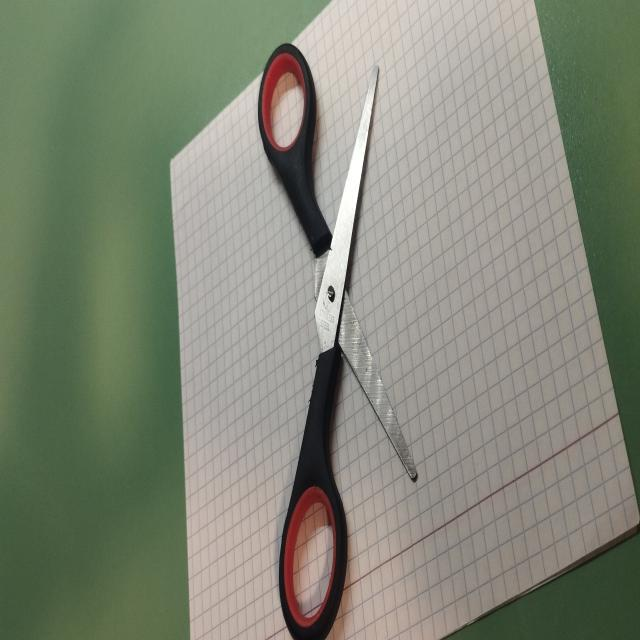tesoura: (252, 30, 420, 640)
